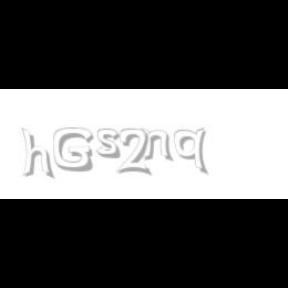2: (116, 128, 150, 176)
G: (53, 128, 93, 172)
h: (21, 128, 56, 180)
n: (140, 128, 174, 162)
q: (174, 128, 210, 176)
s: (97, 128, 125, 160)
